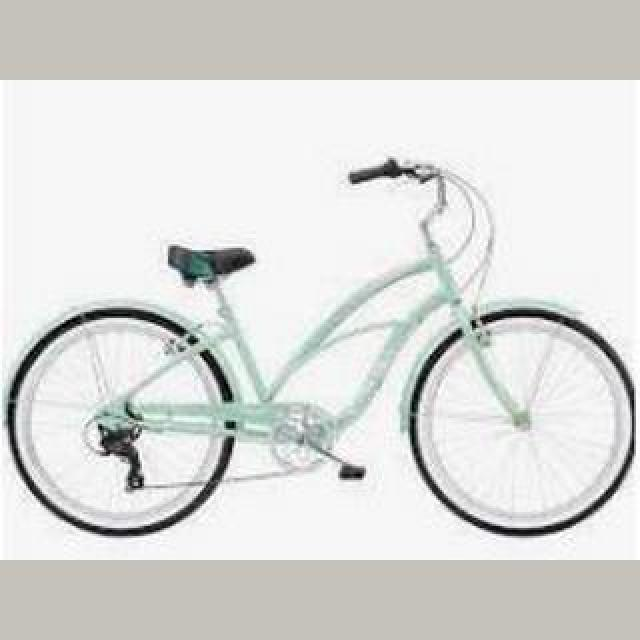Person: (0, 160, 640, 538)
